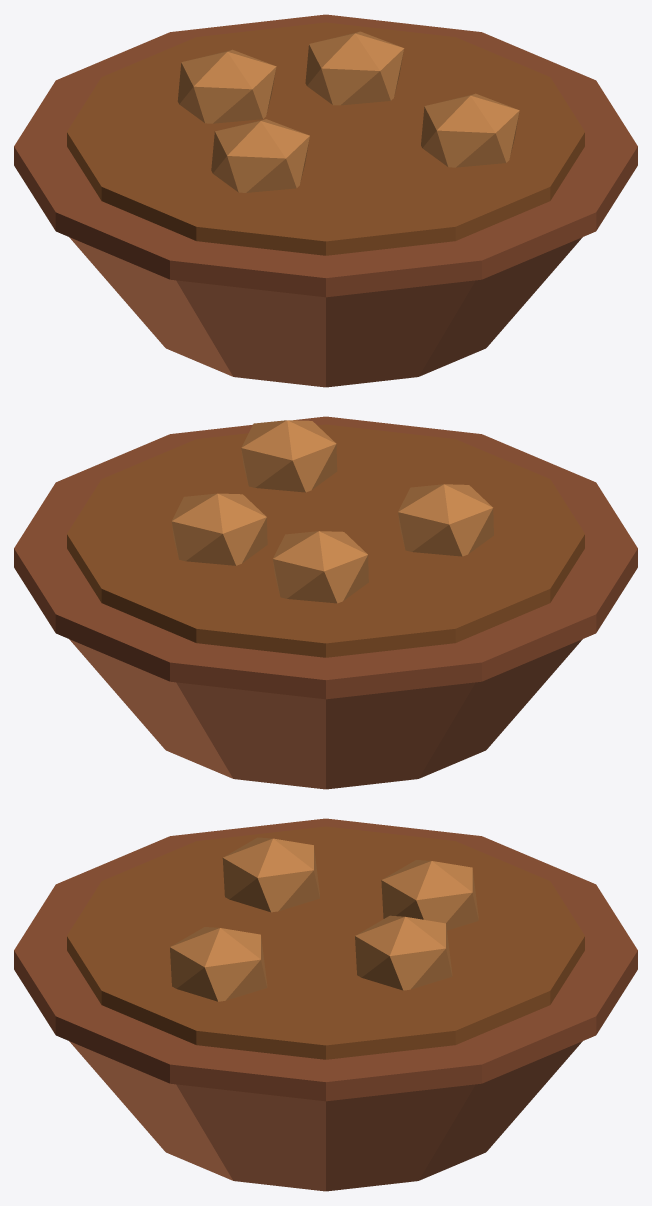
The model's file is drop_stew.glb.
3 renders of one model, top to bottom at view 1: azimuth 30°, elevation 25°; view 2: azimuth 150°, elevation 25°; view 3: azimuth 270°, elevation 25°, orthographic.
Parts seen in each view (by area): view 1: drop_stew; view 2: drop_stew; view 3: drop_stew.
Boxes of the visible parts, x1,y1,x2,y2 form: drop_stew: (14,14,637,387); drop_stew: (14,416,637,789); drop_stew: (14,818,637,1191).
Size of the model in its own units: 0.236 by 0.096 by 0.236.
